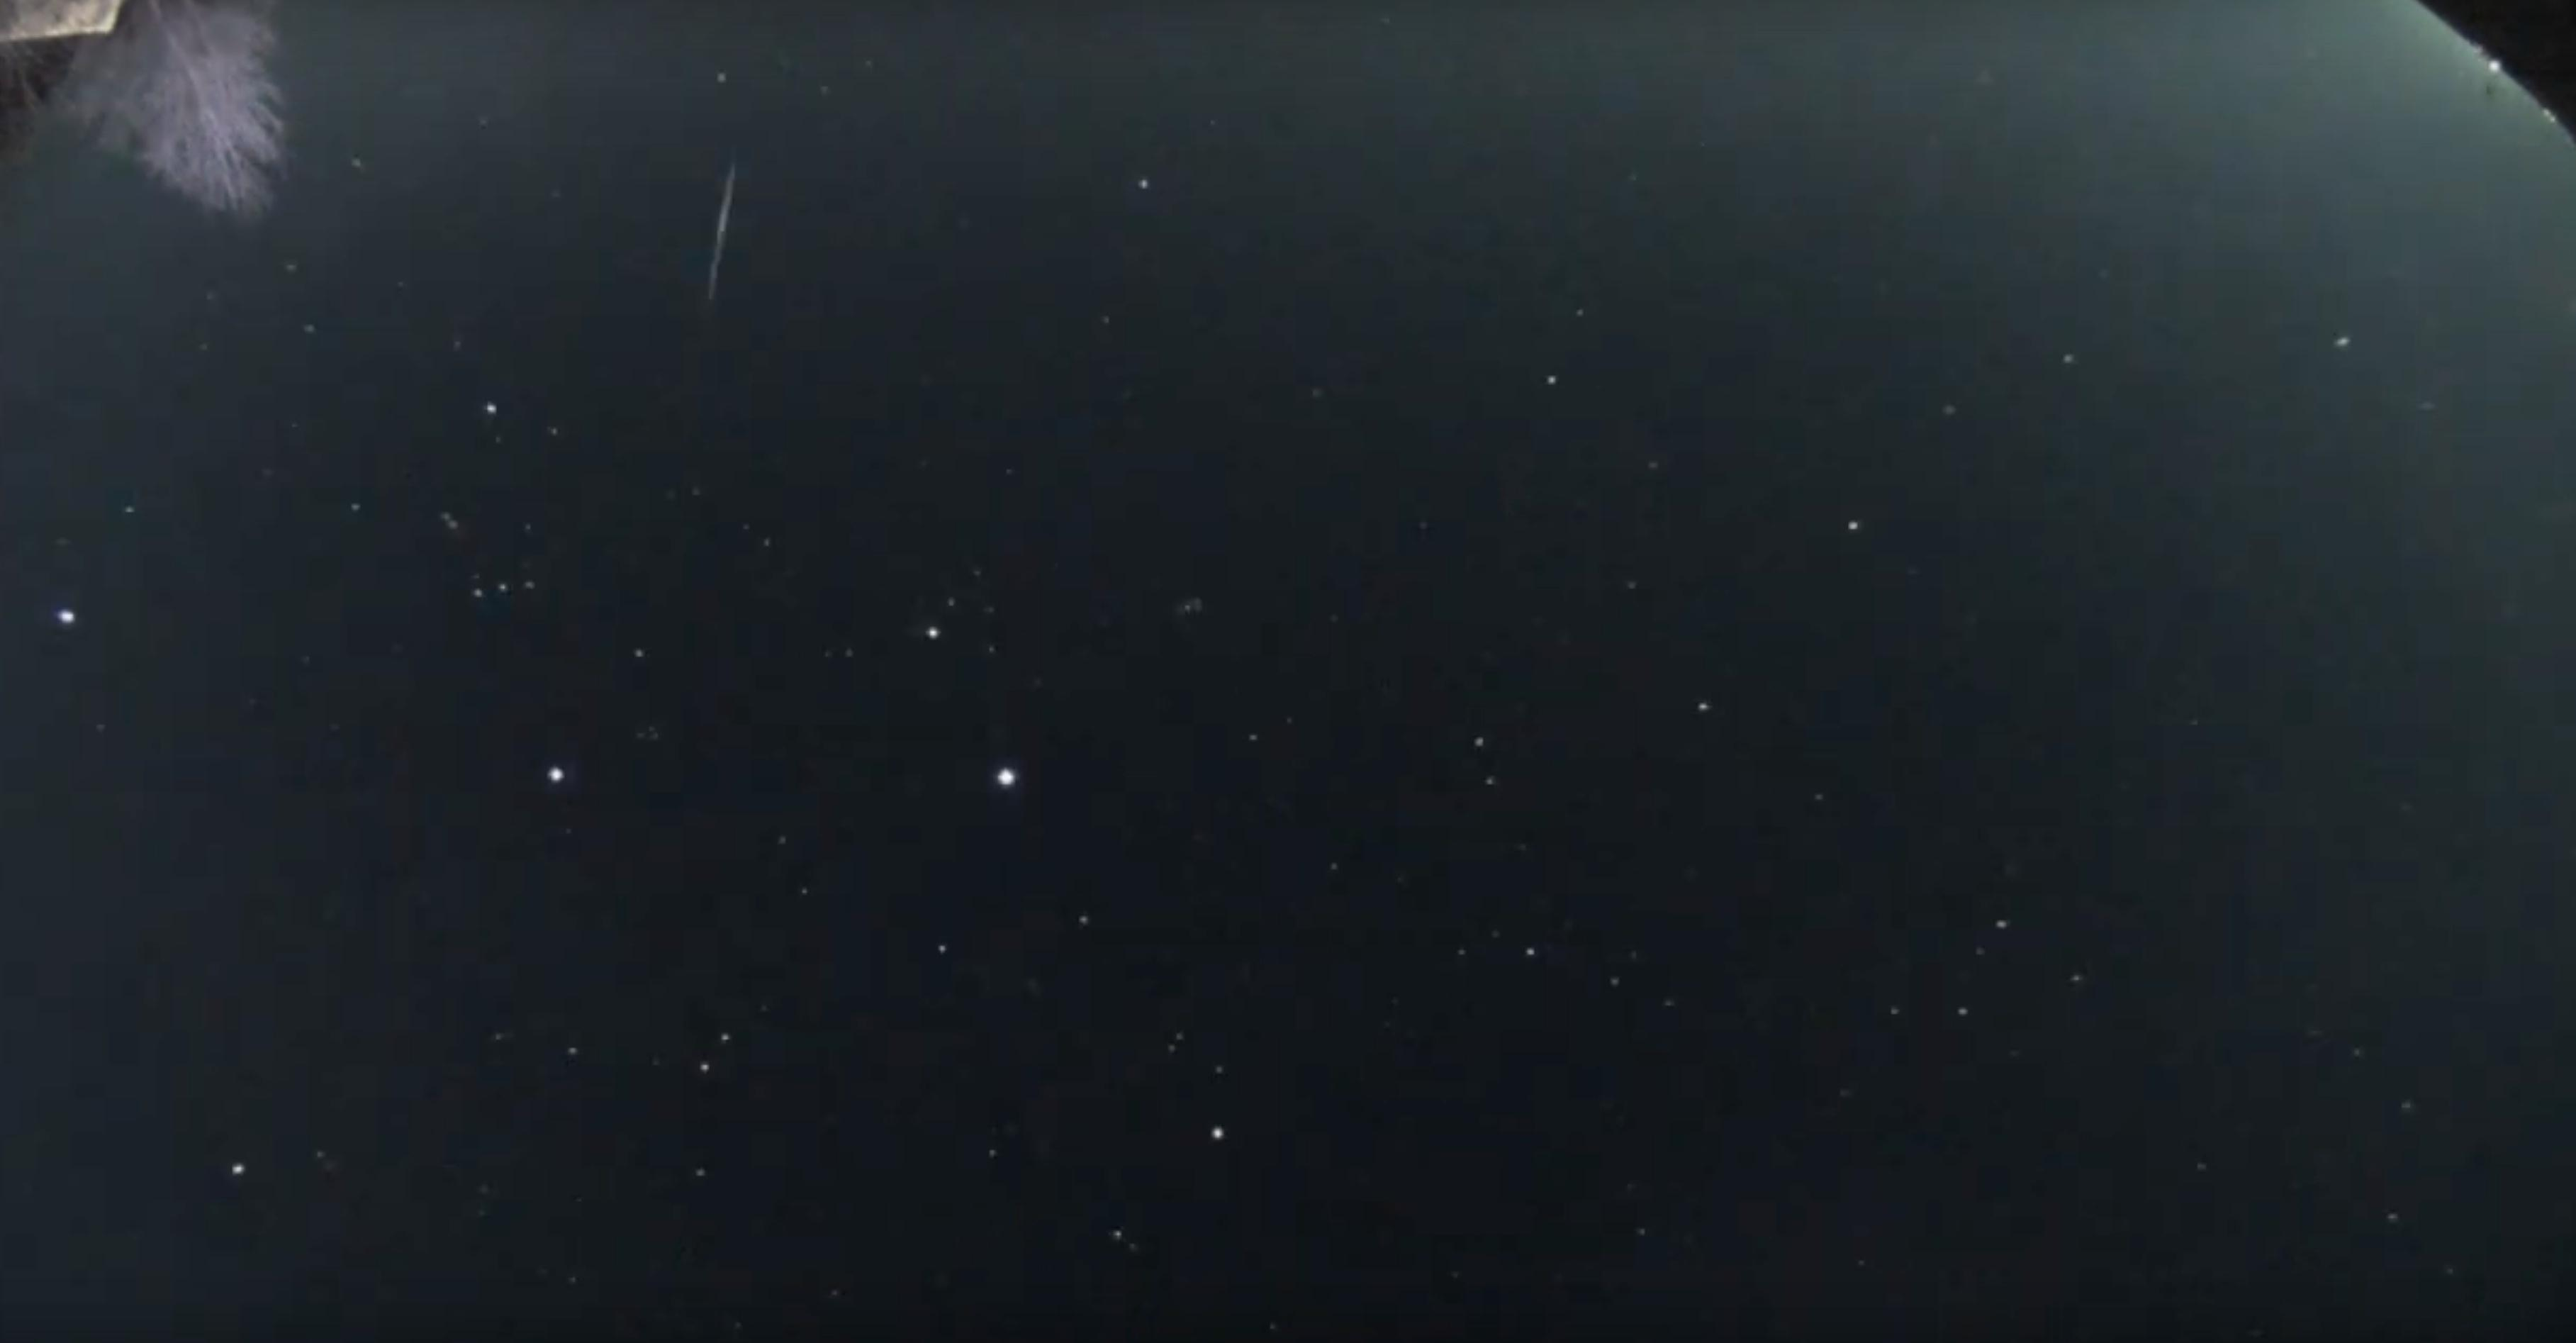meteorite: (666, 141, 785, 314)
